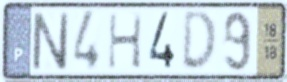4: (71, 7, 103, 75), (147, 9, 177, 73)
9: (222, 9, 254, 74)
D: (180, 8, 219, 74)
H: (106, 11, 144, 72)
N: (30, 10, 70, 73)
